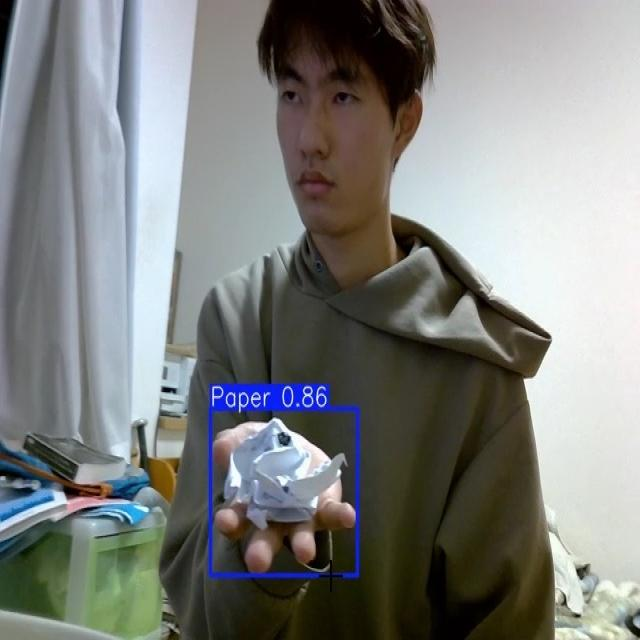paper: (222, 416, 348, 531)
